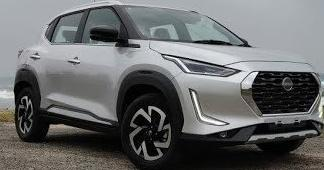Crossovers: (16, 3, 323, 169)
